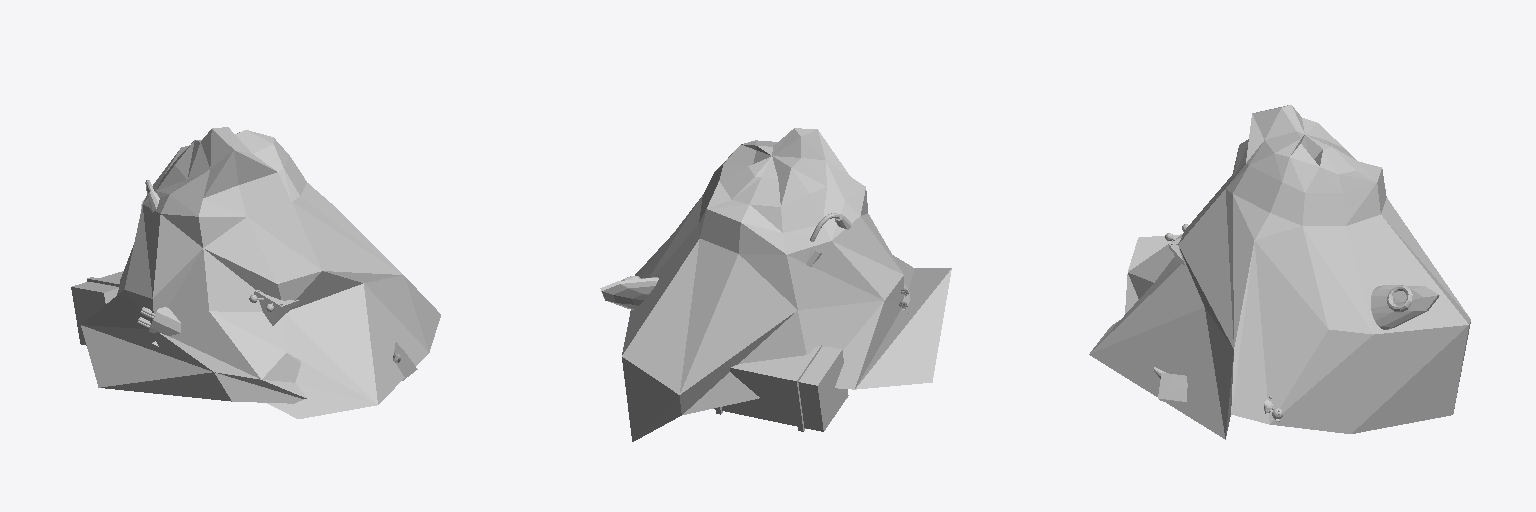
The model's file is Junkyard.obj.
3 renders of one model, left to right at view 1: azimuth 30°, elevation 25°; view 2: azimuth 150°, elevation 25°; view 3: azimuth 270°, elevation 25°, orthographic.
Parts seen in each view (by area): view 1: group[number redacted]; view 2: group[number redacted]; view 3: group[number redacted].
Part boxes in pixels (x1,y1,x2,y2): group[number redacted]: (71,127,440,418); group[number redacted]: (600,128,951,441); group[number redacted]: (1089,105,1470,439).
Bounding box in the file's own units: 4.41 × 3.54 × 4.54.